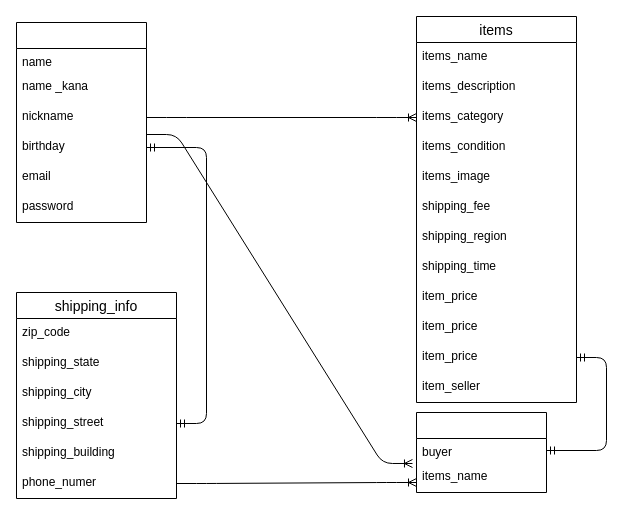
This 623x515 diagram has some shape labels left out. Here are the shapes that lost their labels. From the top down, the box of each, then its label:
(16, 22, 146, 222): users
(416, 412, 546, 492): buying_record
